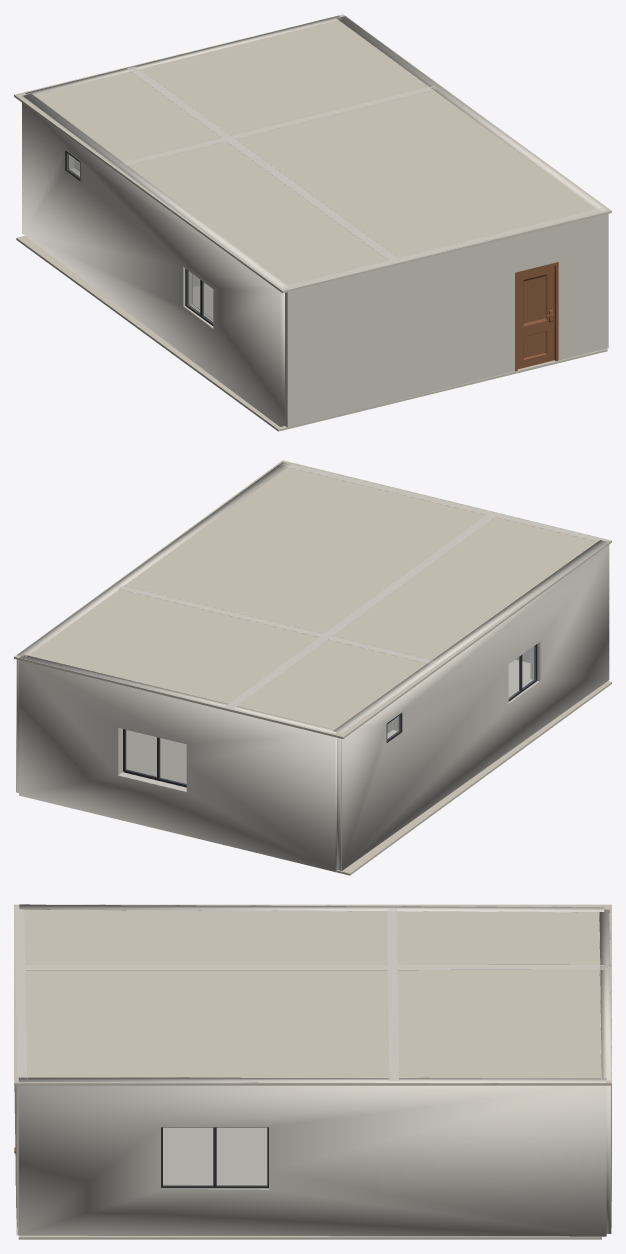
Rendered from flat.glb.
3 views of the same model, one above another, from view 1: azimuth 30°, elevation 25°; view 2: azimuth 150°, elevation 25°; view 3: azimuth 270°, elevation 25° (orthographic). The views are drawn at different scales.
Parts seen in each view (by area): view 1: Ceiling_Main, frontFace.006, backFace, Floor_Main, soul.004, Mesh_door.002, soul.005, soul.007, soul.003, soul.006, doorway(Clone).002, soul (+2 smaller); view 2: Ceiling_Main, backFace.003, backFace, Floor_Main, soul.004, soul.005, soul.006, soul.007, soul.003, Window_Bedroom_Glass_R, Window_Bedroom_Glass_L, soul (+2 smaller); view 3: Ceiling_Main, frontFace.002, Floor_Main, soul.005, soul.004, Window_Hall_Glass_L, Window_Hall_Glass_R, soul.006, soul.007, soul.003, soul, soul.002 (+1 smaller).
Part boxes in pixels (x1=…): Ceiling_Main: x1=14, y1=14, x2=611, y2=293; frontFace.006: x1=287, y1=213, x2=608, y2=427; backFace: x1=22, y1=96, x2=280, y2=426; Floor_Main: x1=16, y1=236, x2=607, y2=431; soul.004: x1=23, y1=93, x2=288, y2=426; Mesh_door.002: x1=517, y1=266, x2=554, y2=369; soul.005: x1=337, y1=16, x2=607, y2=211; soul.007: x1=283, y1=207, x2=607, y2=426; soul.003: x1=221, y1=135, x2=400, y2=262; soul.006: x1=25, y1=15, x2=341, y2=95; doorway(Clone).002: x1=515, y1=262, x2=558, y2=371; soul: x1=127, y1=66, x2=229, y2=137; Ceiling_Main: x1=14, y1=460, x2=611, y2=738; backFace.003: x1=19, y1=659, x2=334, y2=871; backFace: x1=341, y1=544, x2=609, y2=870; Floor_Main: x1=123, y1=659, x2=611, y2=875; soul.004: x1=333, y1=540, x2=608, y2=870; soul.005: x1=17, y1=462, x2=289, y2=792; soul.006: x1=19, y1=655, x2=336, y2=871; soul.007: x1=281, y1=462, x2=606, y2=541; soul.003: x1=319, y1=512, x2=498, y2=639; Window_Bedroom_Glass_R: x1=125, y1=730, x2=156, y2=777; Window_Bedroom_Glass_L: x1=159, y1=738, x2=186, y2=784; soul: x1=225, y1=637, x2=326, y2=708; Ceiling_Main: x1=14, y1=904, x2=611, y2=1085; frontFace.002: x1=18, y1=1082, x2=606, y2=1236; Floor_Main: x1=18, y1=1127, x2=601, y2=1239; soul.005: x1=18, y1=1077, x2=606, y2=1189; soul.004: x1=19, y1=904, x2=604, y2=911; Window_Hall_Glass_L: x1=163, y1=1128, x2=212, y2=1185; Window_Hall_Glass_R: x1=217, y1=1128, x2=266, y2=1185; soul.006: x1=599, y1=909, x2=611, y2=1233; soul.007: x1=14, y1=907, x2=26, y2=1235; soul.003: x1=18, y1=965, x2=398, y2=969; soul: x1=399, y1=965, x2=608, y2=969; soul.002: x1=388, y1=986, x2=399, y2=1080.
Size of the model in its own units: 8.7 by 3.54 by 12.21.
